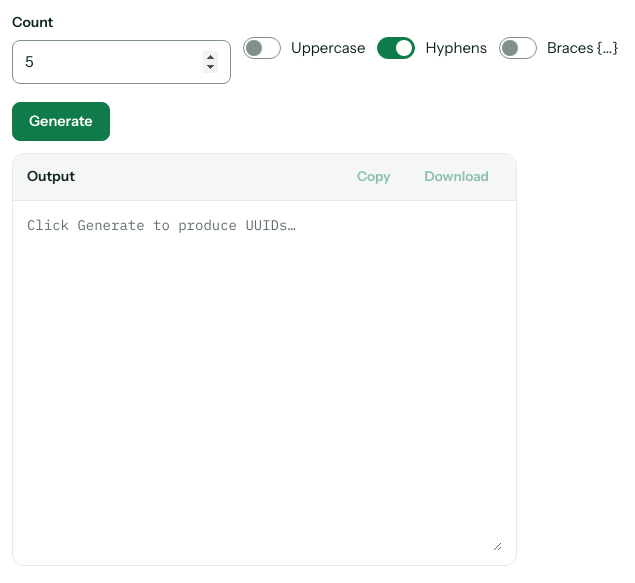
Test: UuidGenerator › shows "1 UUID generated" for count=1
Type "1" into the number field with placeholder "5" at (122, 62), box left=12, top=40, right=231, bottom=84
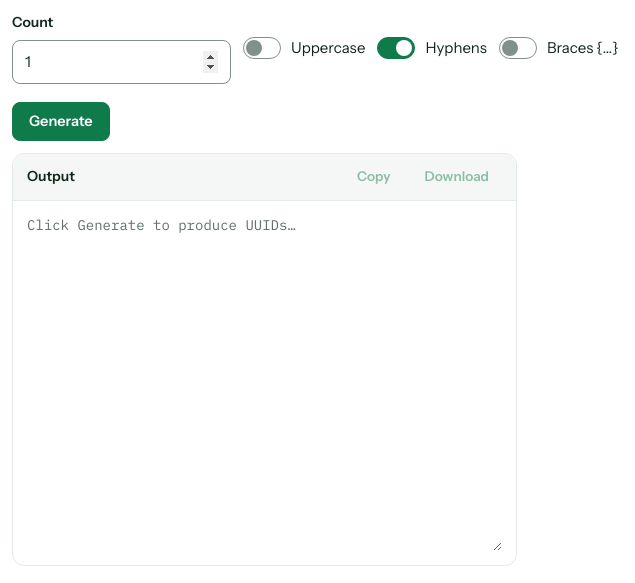
Click the button "Generate" at (61, 122), box left=12, top=102, right=110, bottom=141
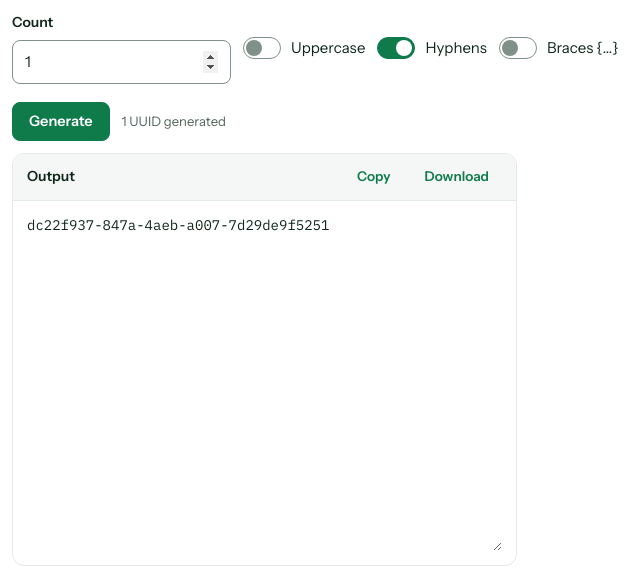
Now the text "1 UUID generated" is shown, box left=122, top=111, right=226, bottom=132
